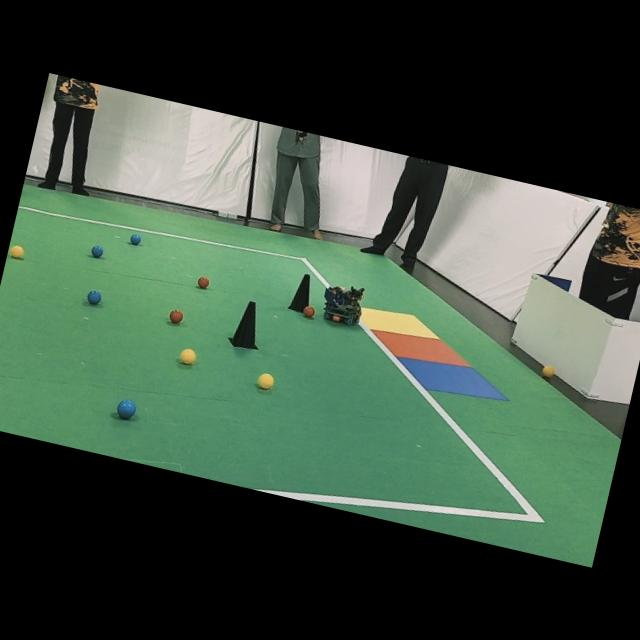ball: (117, 399, 136, 419), (179, 348, 196, 364), (258, 372, 273, 388), (168, 309, 184, 323), (87, 289, 101, 304), (197, 275, 210, 289), (10, 245, 23, 258), (302, 305, 315, 317), (91, 245, 103, 258), (129, 233, 141, 245), (542, 365, 555, 376)
goal: (398, 357, 507, 400), (373, 330, 470, 367), (360, 307, 439, 339)
